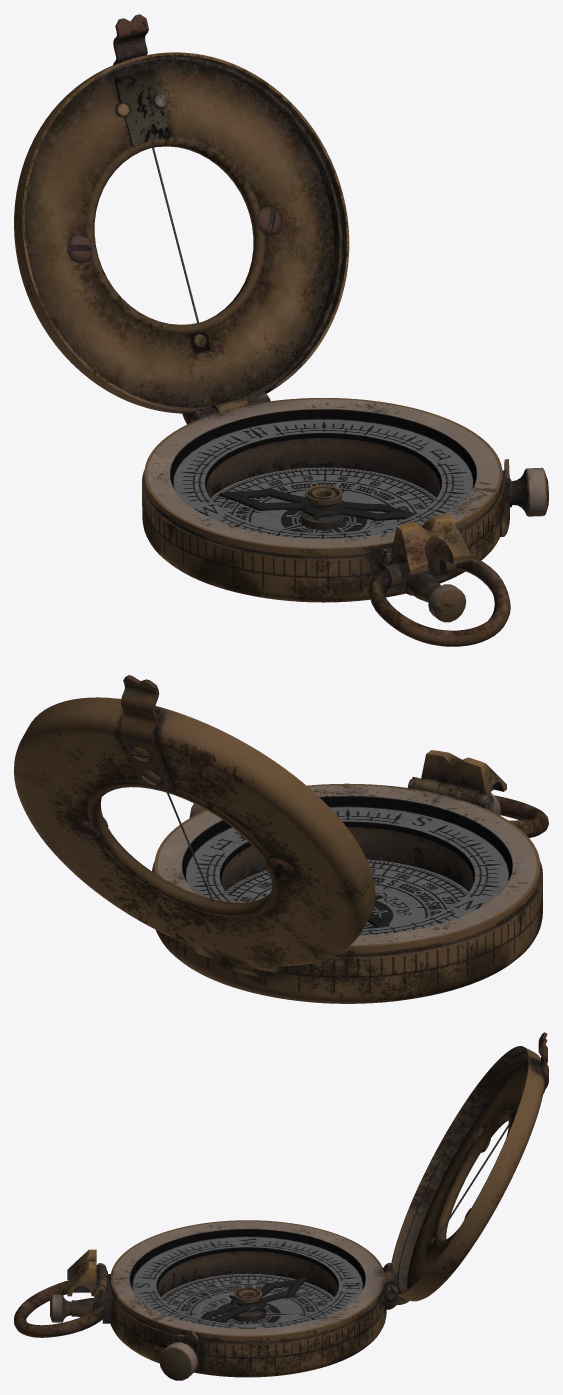
File: seadogs_compass.glb
3 renders of one model, top to bottom at view 1: azimuth 30°, elevation 25°; view 2: azimuth 150°, elevation 25°; view 3: azimuth 270°, elevation 25°, orthographic. The views are drawn at different scales.
Visible parts, largest first — view 1: seadogs_compass_lid, seadogs_compass, seadogs_compass_needle; view 2: seadogs_compass_lid, seadogs_compass; view 3: seadogs_compass, seadogs_compass_lid, seadogs_compass_needle.
Boxes of the visible parts, x1=… form: seadogs_compass_lid: x1=14, y1=14, x2=349, y2=424; seadogs_compass: x1=142, y1=398, x2=548, y2=646; seadogs_compass_needle: x1=219, y1=488, x2=415, y2=520; seadogs_compass_lid: x1=14, y1=675, x2=375, y2=972; seadogs_compass: x1=152, y1=750, x2=548, y2=1003; seadogs_compass: x1=14, y1=1220, x2=397, y2=1380; seadogs_compass_lid: x1=382, y1=1032, x2=548, y2=1305; seadogs_compass_needle: x1=201, y1=1278, x2=306, y2=1322.
Bounding box in the file's own units: 0.0813 × 0.0866 × 0.1441.
Materials: 1 (1 with a texture image).
